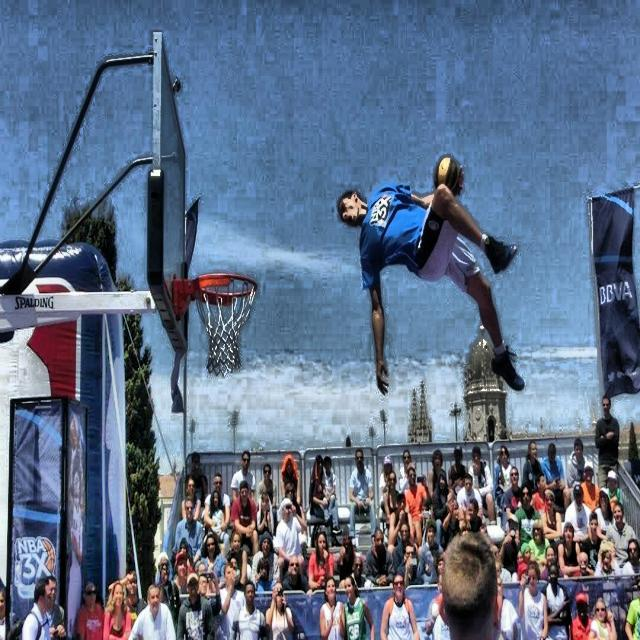rim: (190, 273, 258, 370)
